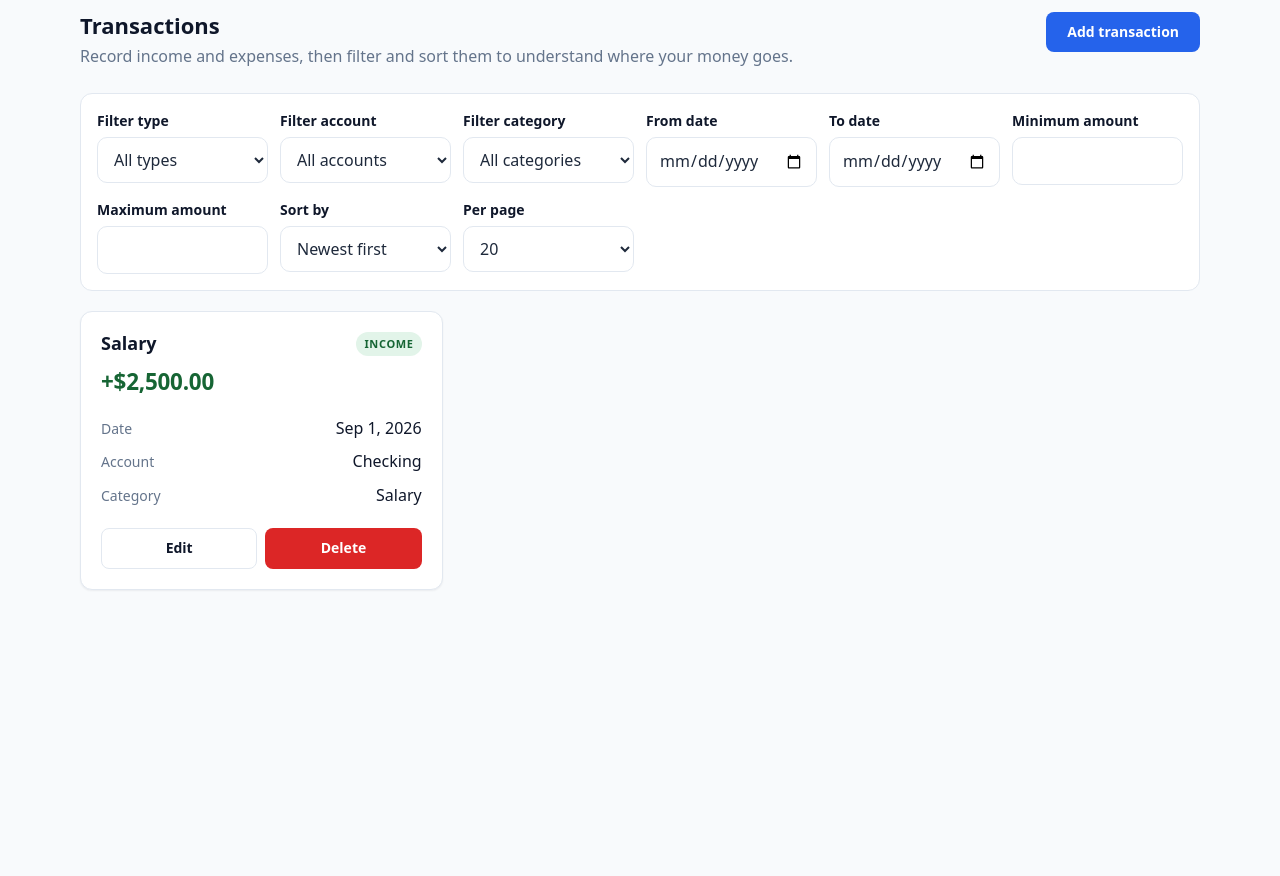
it: TransactionsPage create › creates an expense without sending userId and refreshes transaction and account queries
Expected: the element "Salary" is shown, [80,311,443,590]
Click the button "Add transaction" at [1123, 32], box [1046,12,1200,52]
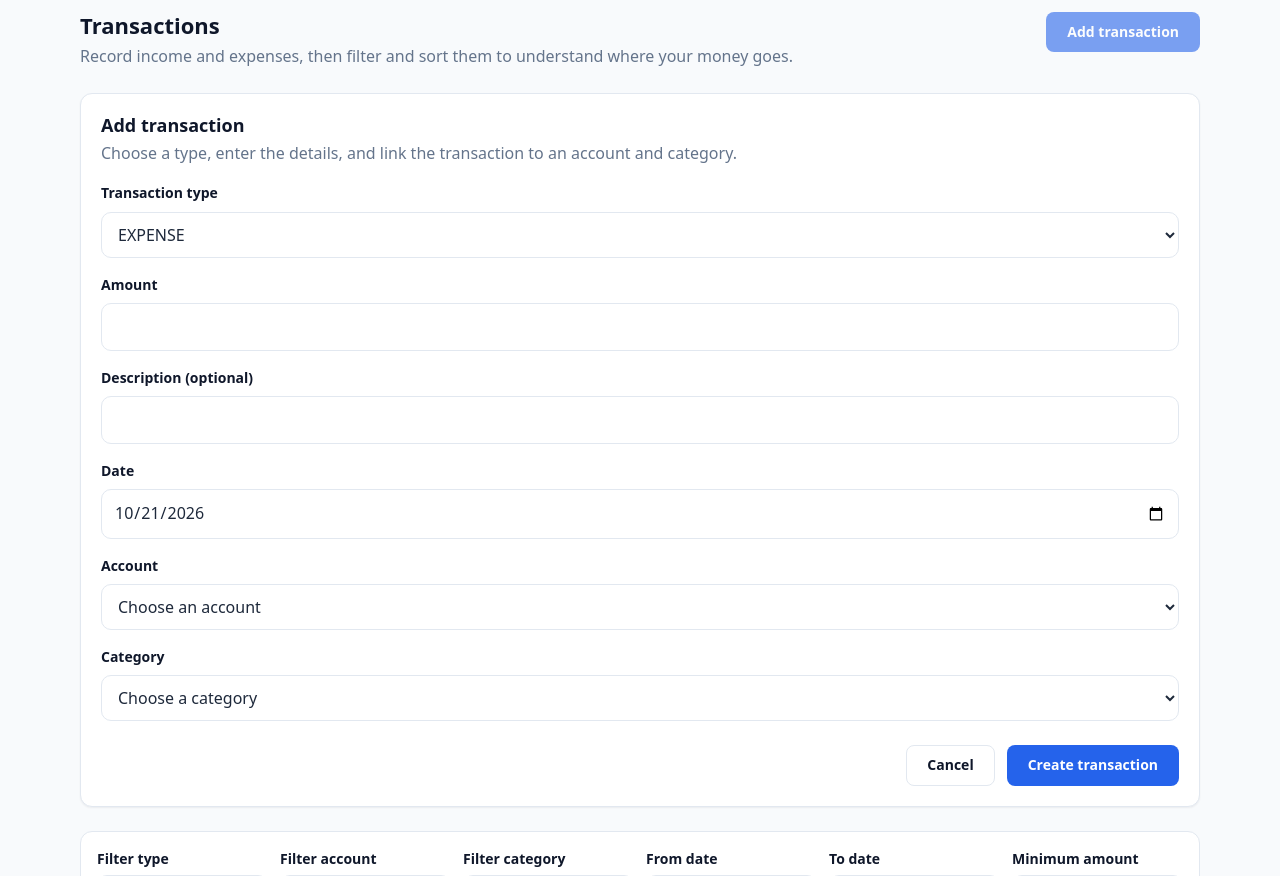
Select "EXPENSE" in the dropdown labelled "Transaction type" at [640, 235], box [101,212,1179,258]
Type "25" into the number field labelled "Amount" at [640, 327], box [101,303,1179,351]
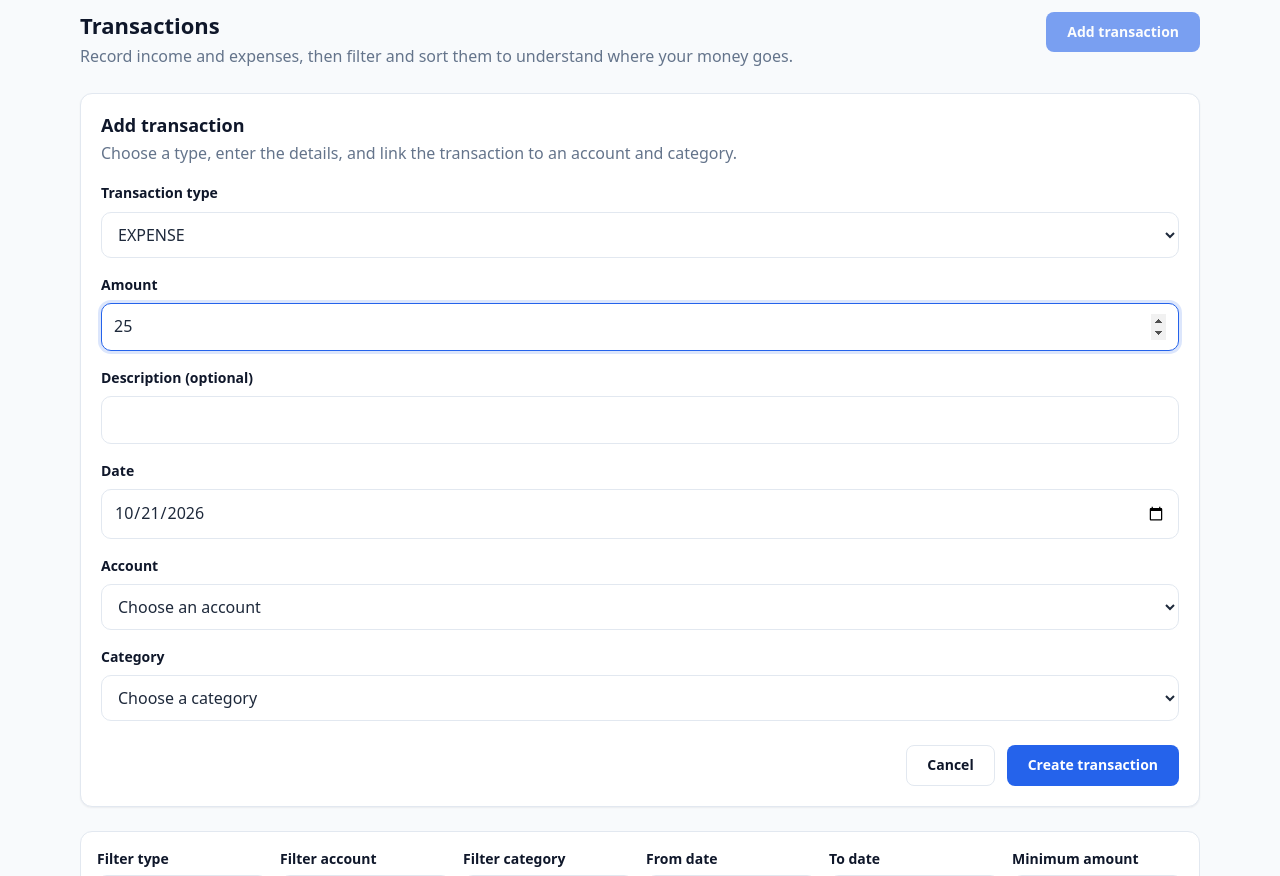
Type "Lunch" into the field labelled "Description (optional)" at [640, 420], box [101,396,1179,444]
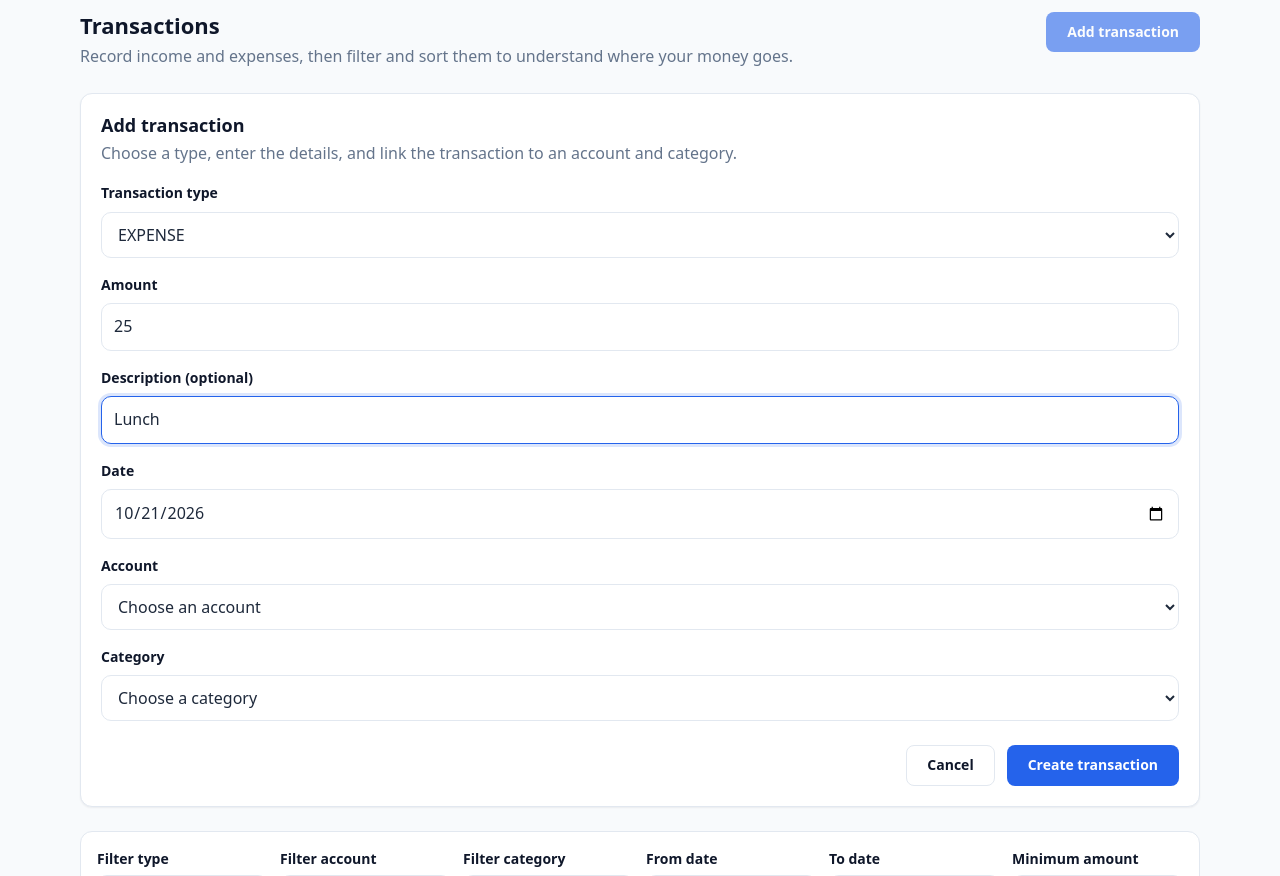
Type "2026-09-20" into the date field labelled "Date" at [640, 514], box [101,489,1179,538]
Select "Checking" in the dropdown labelled "Account" at [640, 607], box [101,584,1179,630]
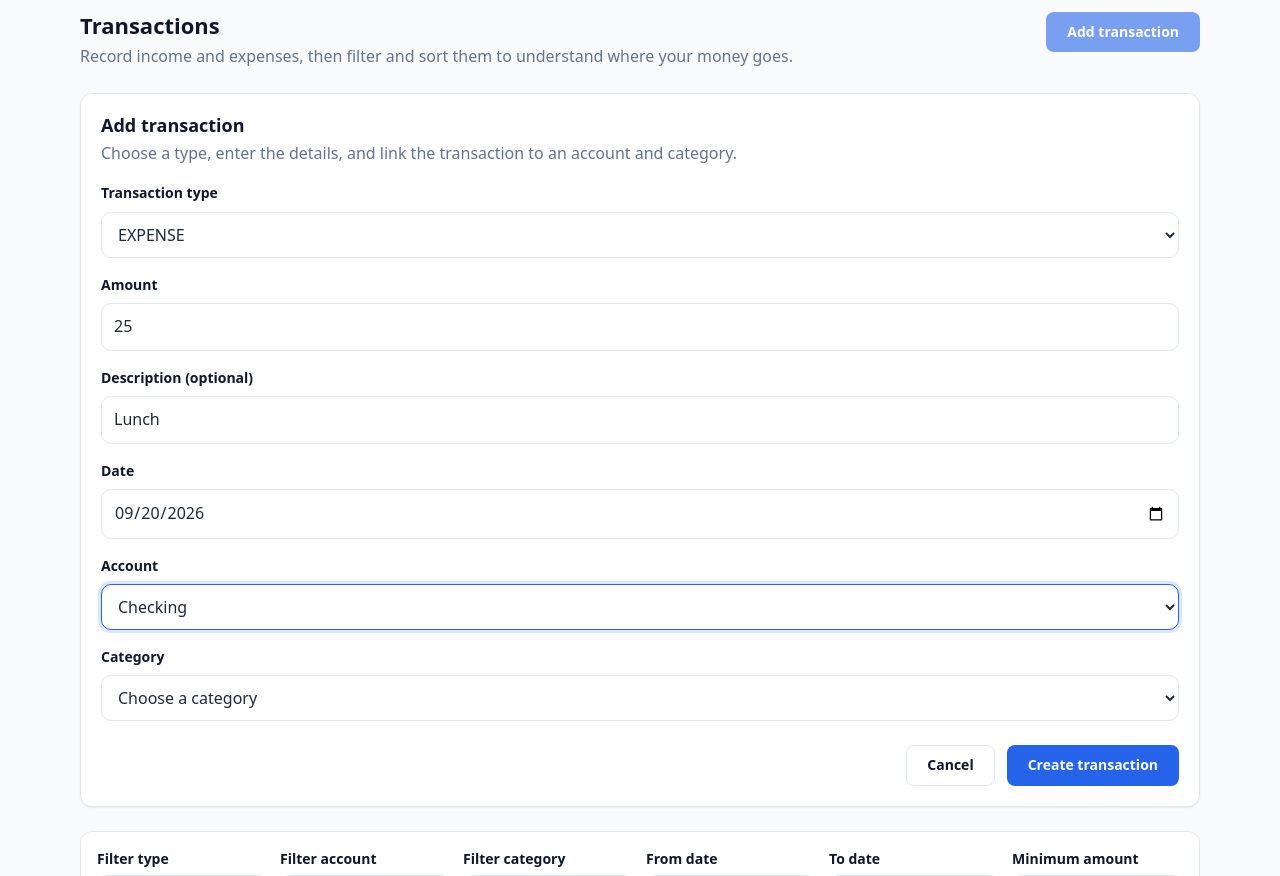
Select "Food" in the dropdown labelled "Category" at [640, 698], box [101,675,1179,721]
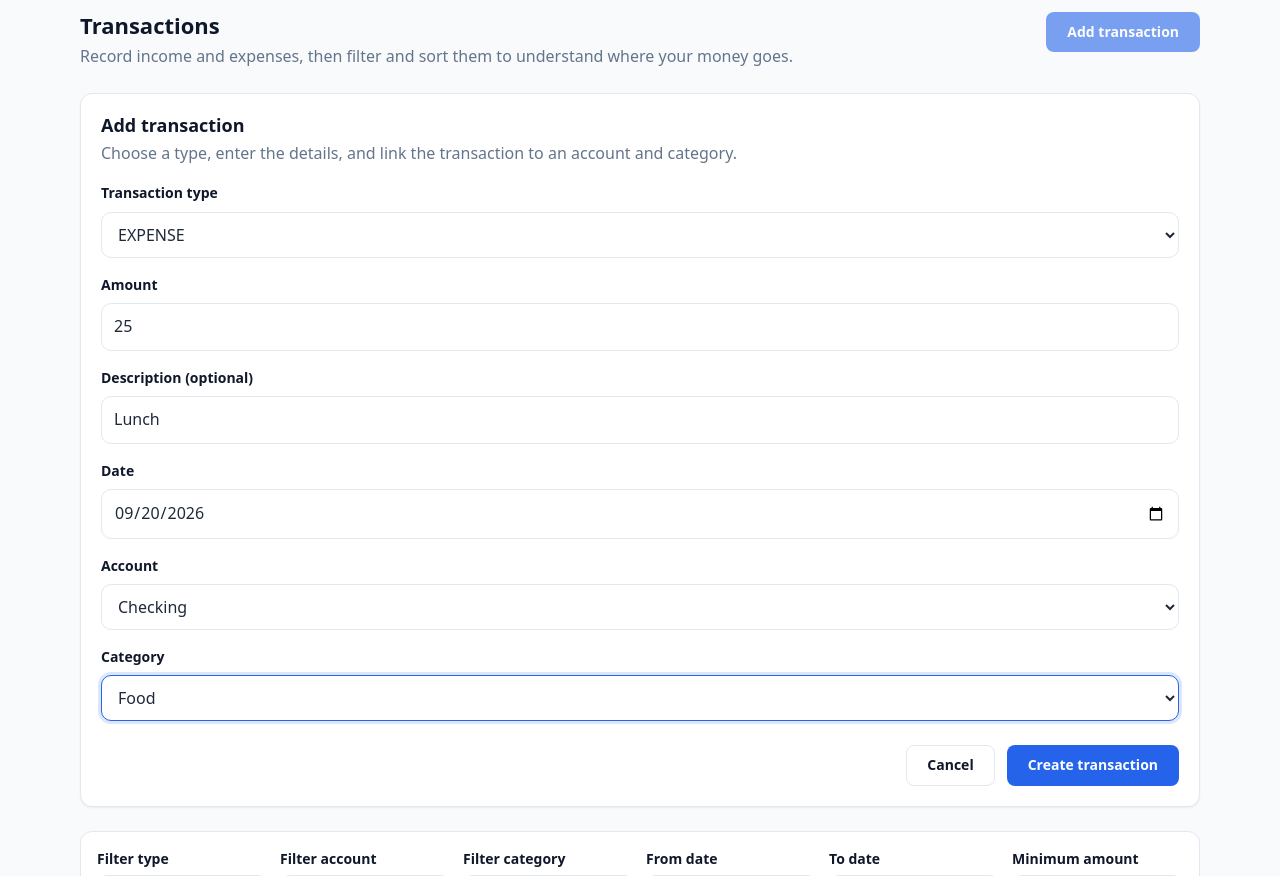
Click the button "Create transaction" at [1093, 766], box [1007,745,1179,786]
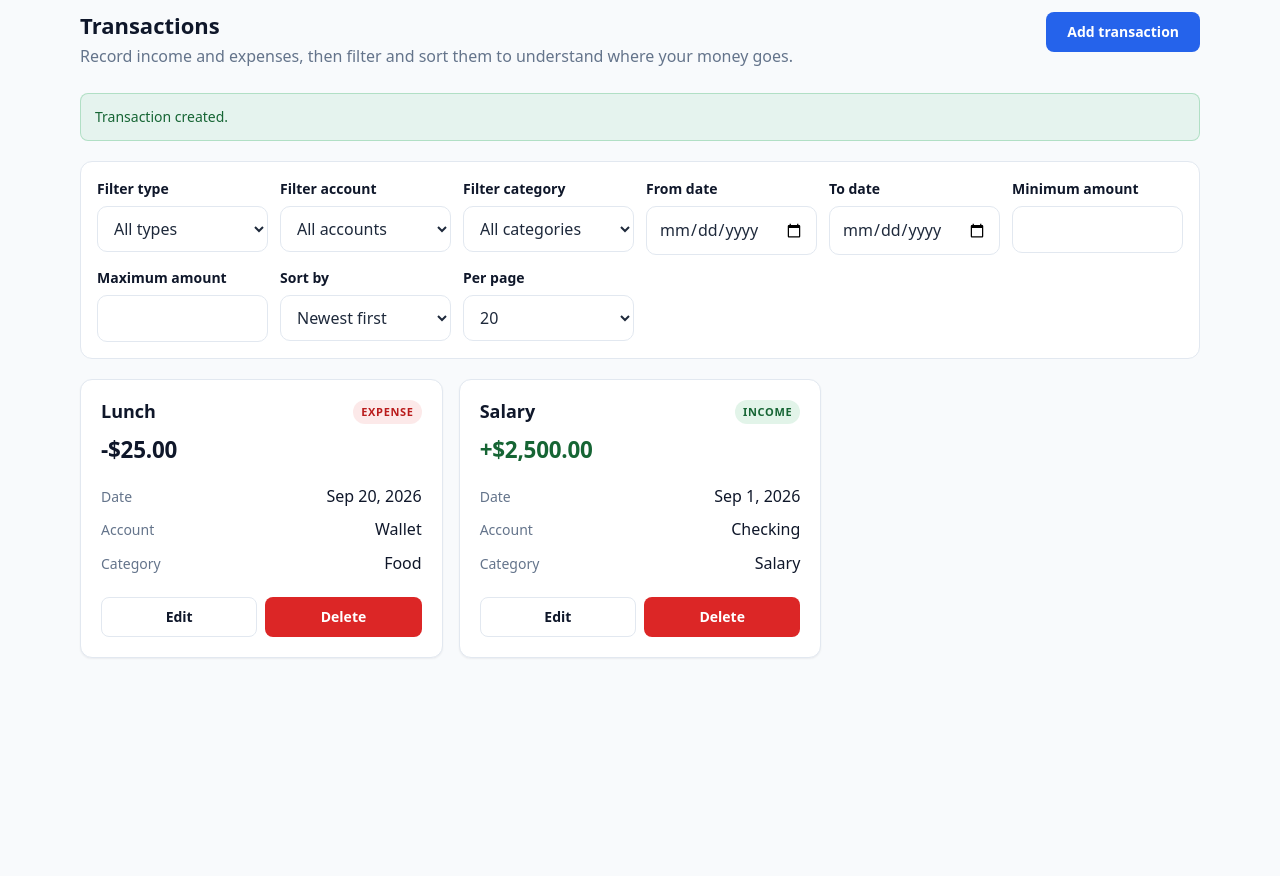
Expected: the message reads "Transaction created.", [95,107,228,126]
Expected: the element "Lunch" is shown, [80,380,443,658]
